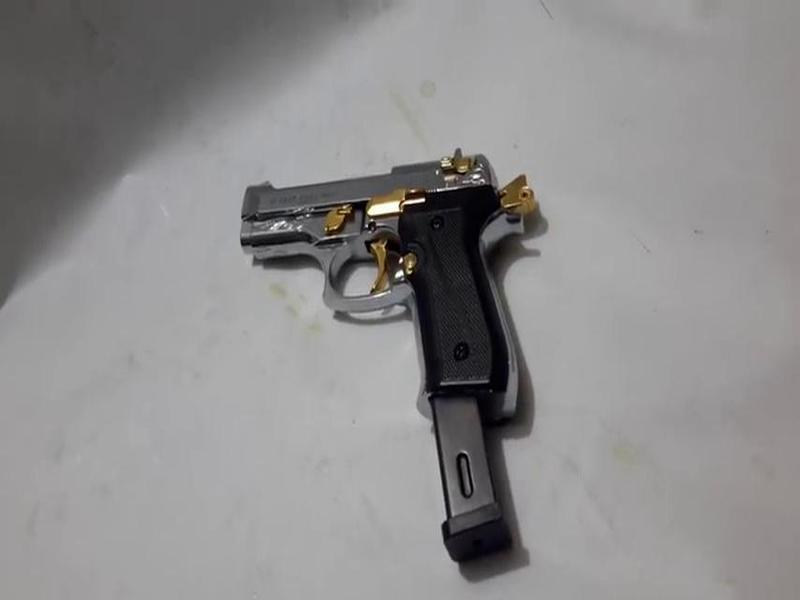Pistola: (244, 151, 567, 415)
